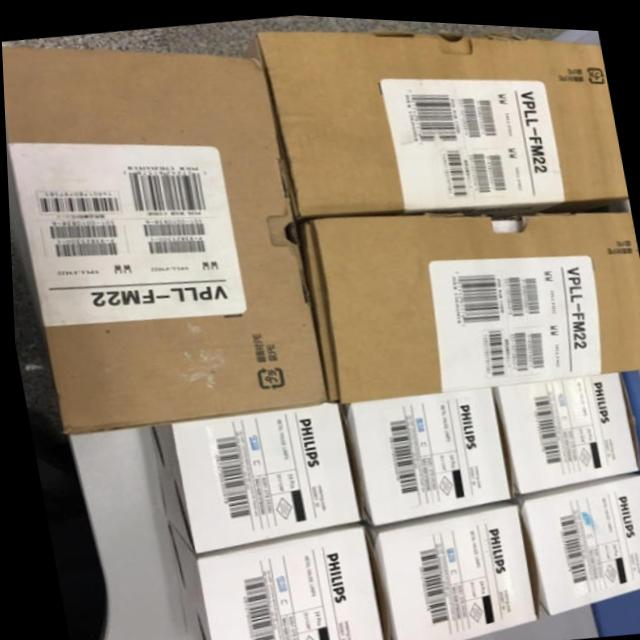box: (2, 49, 325, 434), (242, 25, 625, 216), (296, 204, 640, 400), (136, 400, 357, 554), (146, 510, 382, 640), (359, 494, 532, 640), (336, 382, 508, 523), (489, 364, 638, 490), (512, 465, 640, 610)
